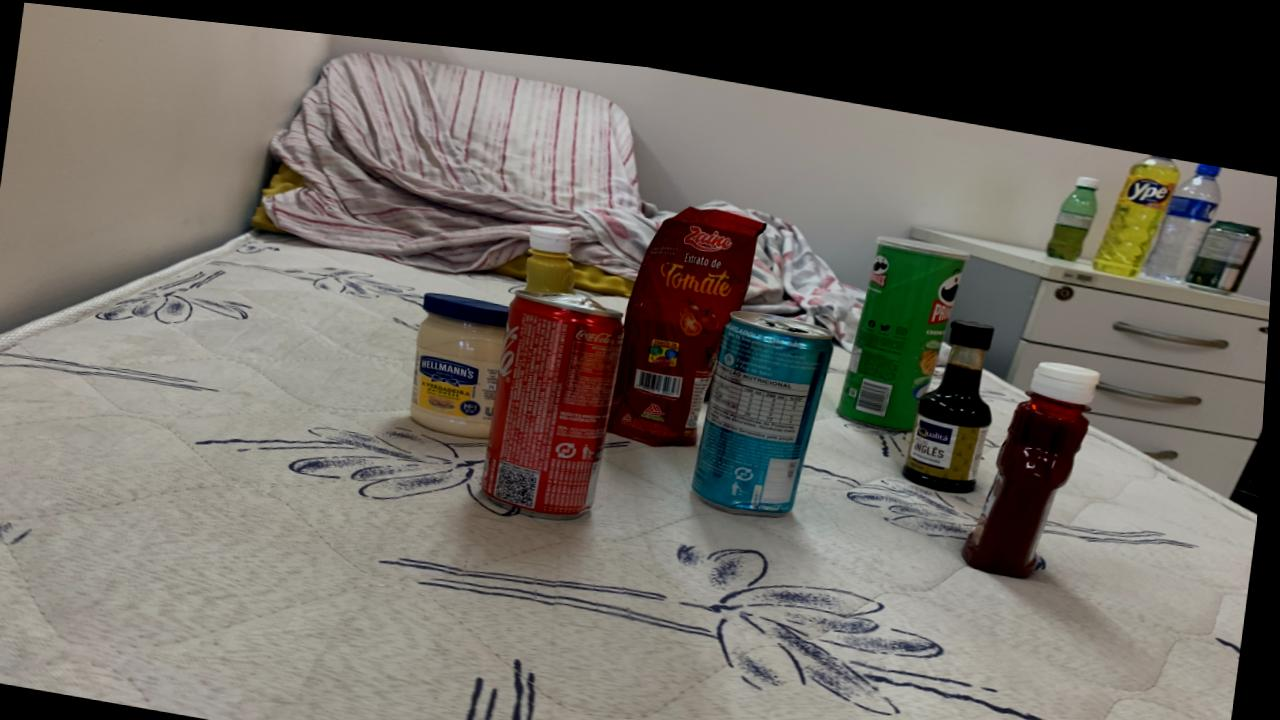Coke-Drinks: (487, 277, 627, 507)
Detergent-Cleanup_Items: (1093, 129, 1181, 252)
English_Sauce-Pantry_Items: (907, 299, 995, 471)
Guarana-Drinks: (1047, 153, 1098, 237)
Guarana_Can-Drinks: (1188, 192, 1262, 265)
Ketchup-Pantry_Items: (968, 338, 1101, 554)
Mayonnaise-Pantry_Items: (414, 283, 512, 427)
Mustard-Pantry_Items: (527, 212, 577, 282)
Pringles-Snacks: (841, 217, 968, 411)
Tea-Drinks: (697, 295, 836, 497)
Tomato_Sauce-Pantry_Items: (613, 192, 766, 431)
Water_Bottle-Drinks: (1144, 137, 1222, 257)
